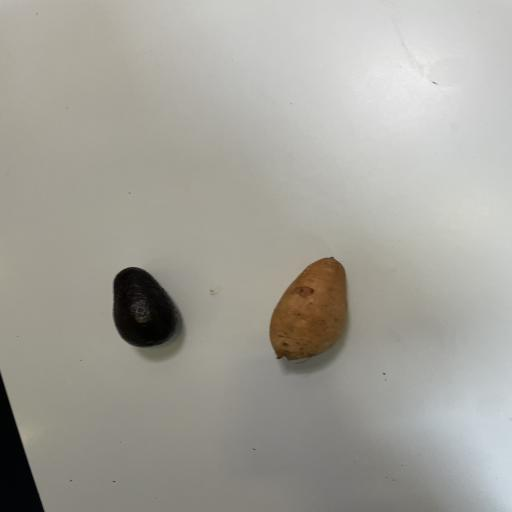avocado: (106, 262, 184, 354)
sweet_potato: (263, 252, 354, 365)
